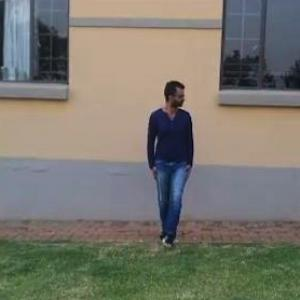follow: (147, 79, 195, 243)
